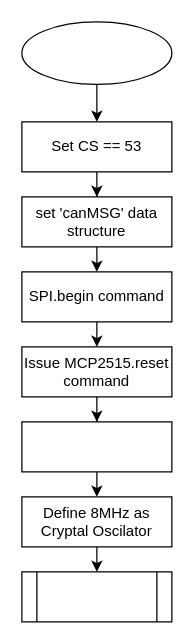
Image size: 194x644. Some labels were removed from this diagram. The shapes that lost their labels are listed below. From the top down, each one's centre as x and y in pixels, then its label:
point 96,52: Start
point 96,446: Set bitrate as 500KBPS
point 96,596: Main Loop
